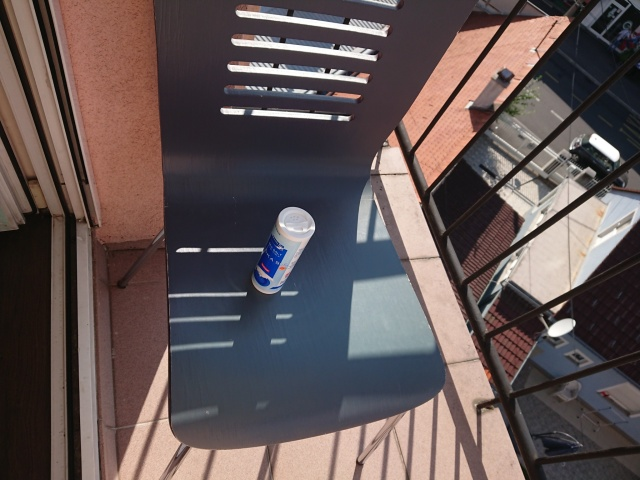Solana Pag Fine Sea Salt 250g: (249, 204, 316, 295)
